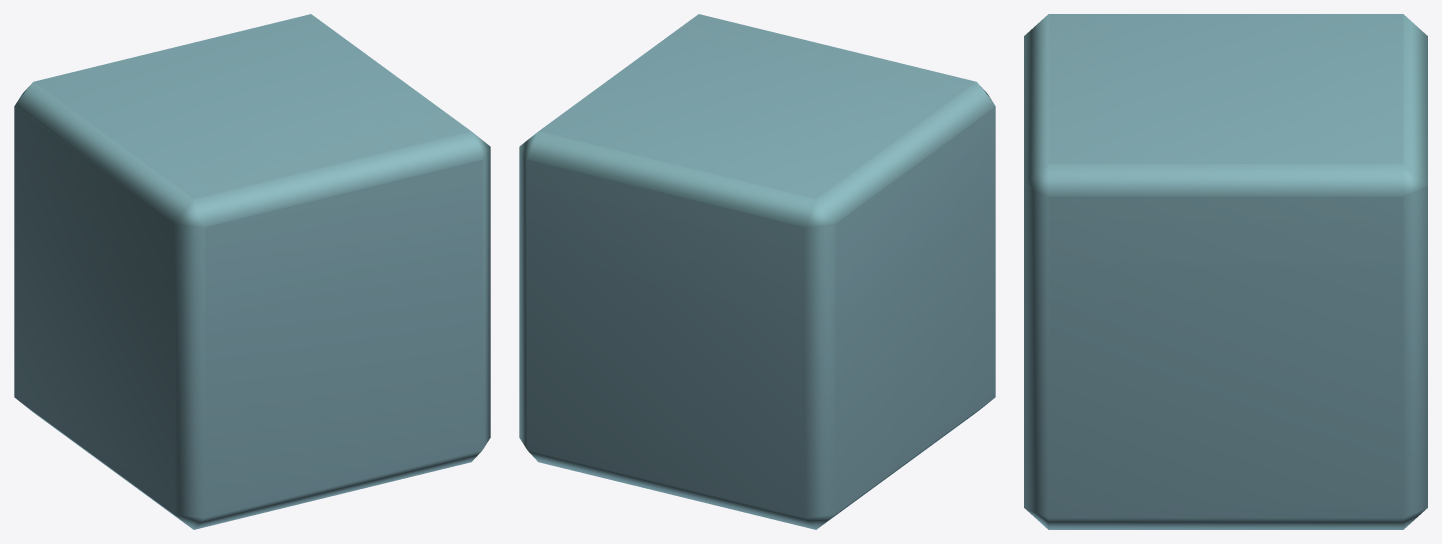
The model's file is cube_01_hue_2.fbx.
3 renders of one model, left to right at view 1: azimuth 30°, elevation 25°; view 2: azimuth 150°, elevation 25°; view 3: azimuth 270°, elevation 25°, orthographic. The views are drawn at different scales.
Visible parts, largest first — view 1: cube_01_hue_2; view 2: cube_01_hue_2; view 3: cube_01_hue_2.
Part boxes in pixels (x1,y1,x2,y2): cube_01_hue_2: (14,14,490,529); cube_01_hue_2: (519,14,995,529); cube_01_hue_2: (1024,14,1427,529).
Bounding box in the file's own units: 51.56 × 51.56 × 51.56.
1 material, 1 textured.
